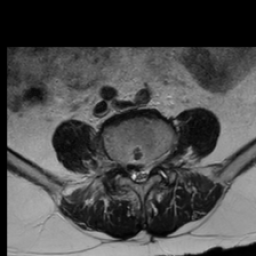CCS_severe_stenosis: (136, 159, 143, 188)
LFS_normal: (151, 147, 159, 173)
LLS_normal: (143, 153, 151, 186)
RFS_severe_stenosis: (122, 154, 129, 180)
RLS_normal: (129, 156, 136, 187)
